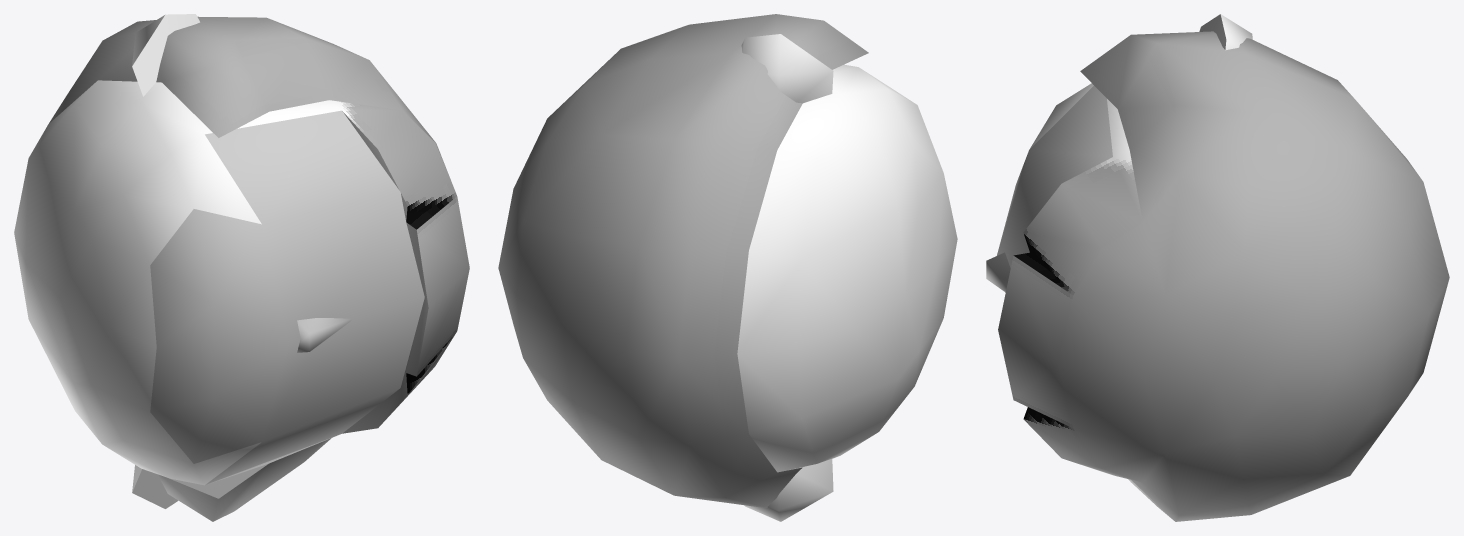
Rendered from girl06a.dae.
3 renders of one model, left to right at view 1: azimuth 30°, elevation 25°; view 2: azimuth 150°, elevation 25°; view 3: azimuth 270°, elevation 25°, orthographic.
Visible parts, largest first — view 1: vsn_mesh_1_, vsn_mesh_0_, vsn_mesh_2_; view 2: vsn_mesh_1_; view 3: vsn_mesh_1_, vsn_mesh_0_.
Boxes of the visible parts, box(x1,y1,x2,y2) form: vsn_mesh_1_: box(14, 14, 469, 521); vsn_mesh_0_: box(205, 110, 424, 484); vsn_mesh_2_: box(150, 209, 288, 463); vsn_mesh_1_: box(498, 14, 957, 521); vsn_mesh_1_: box(998, 14, 1449, 521); vsn_mesh_0_: box(986, 86, 1112, 292).
Size of the model in its own units: 21.02 by 26.71 by 23.02.
Materials: 3 (1 with a texture image).
